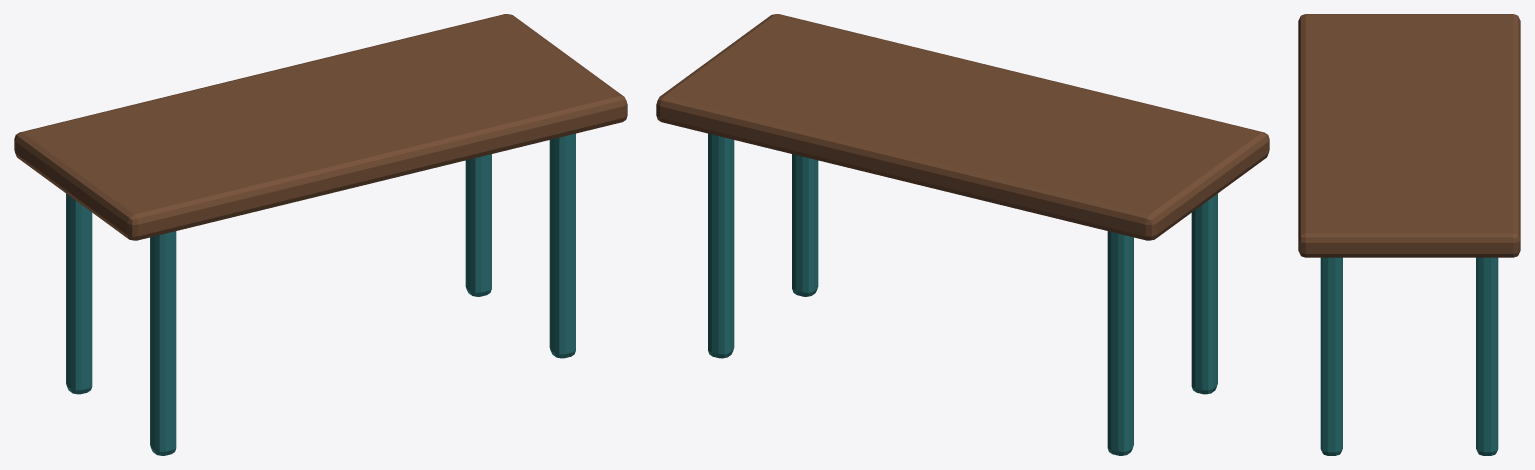
The model's file is prep_table.glb.
The picture shows the model from 3 angles, left to right: view 1: azimuth 30°, elevation 25°; view 2: azimuth 150°, elevation 25°; view 3: azimuth 270°, elevation 25°; orthographic projection. The views are drawn at different scales.
Visible parts, largest first — view 1: prep_table; view 2: prep_table; view 3: prep_table.
Boxes of the visible parts, bbox=[...] form: prep_table: bbox=[14, 14, 627, 455]; prep_table: bbox=[656, 14, 1269, 455]; prep_table: bbox=[1298, 14, 1520, 455].
Bounding box in the file's own units: 1.8 × 0.895 × 0.75.
